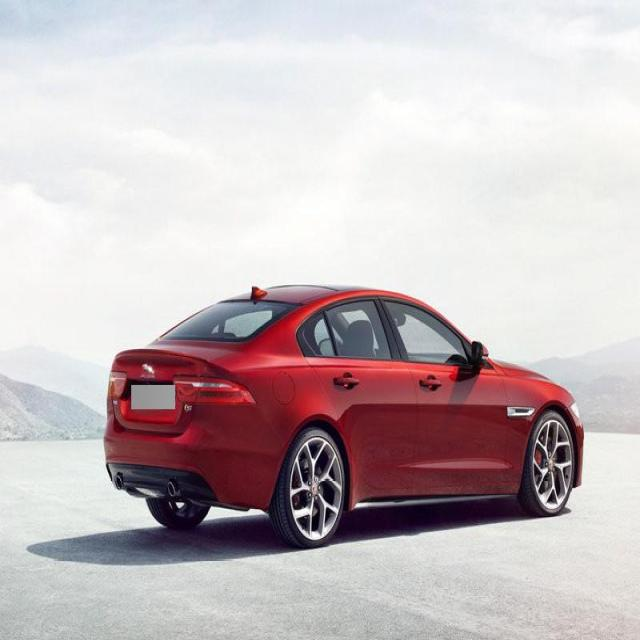back_glass: (159, 298, 299, 340)
back_left_side_light: (106, 370, 130, 401)
back_right_side_light: (172, 374, 258, 409)
door: (298, 291, 418, 504)
front_right_side_door: (378, 293, 512, 501)
front_right_side_light: (568, 394, 582, 420)
front_right_side_mirror: (470, 338, 490, 374)
rear_bumper: (102, 398, 284, 511)
wheel: (267, 427, 347, 546), (518, 410, 575, 515)
